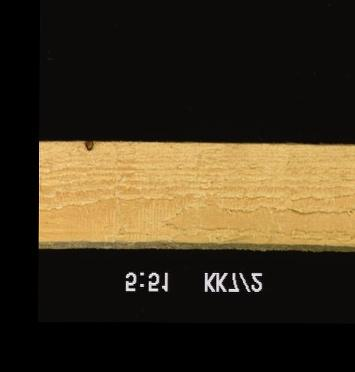edge_knot: (80, 136, 94, 151)
